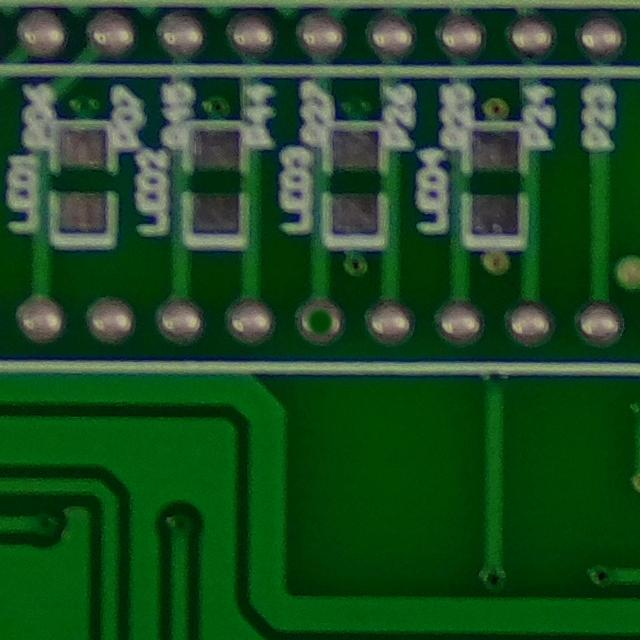missing_hole: (290, 287, 351, 354)
